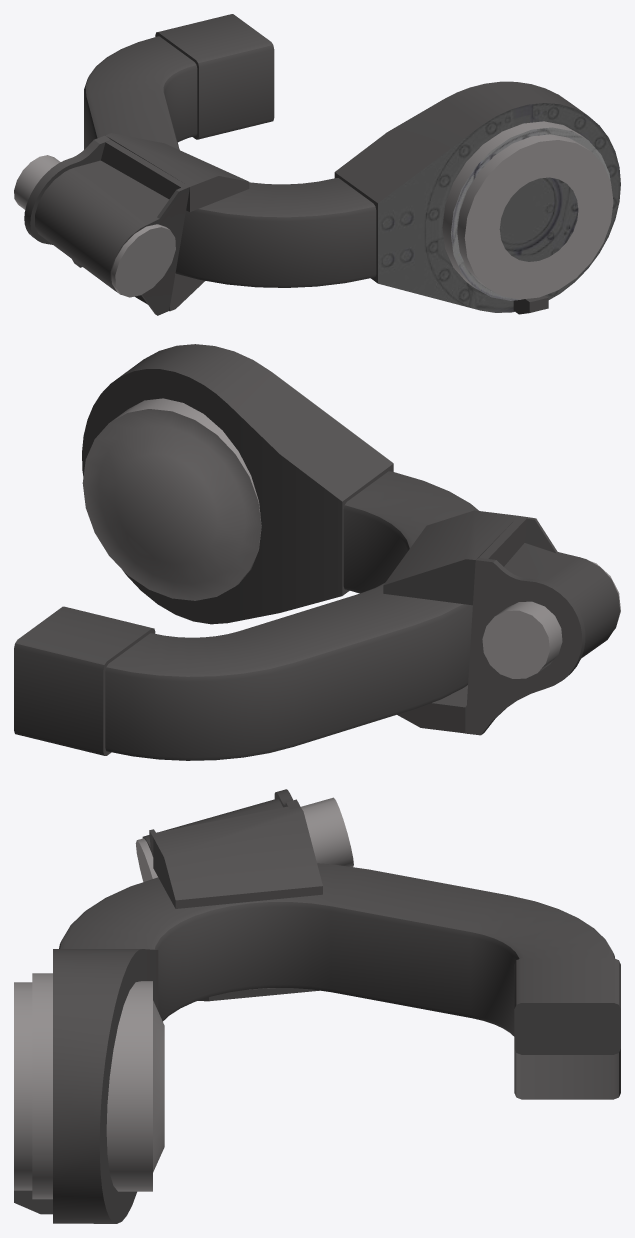
File: Perseverance_front_wheel_mount.glb
The picture shows the model from 3 angles, top to bottom: view 1: azimuth 30°, elevation 25°; view 2: azimuth 150°, elevation 25°; view 3: azimuth 270°, elevation 25°; orthographic projection. The views are drawn at different scales.
Visible parts, largest first — view 1: susp.front_wheel_mount; view 2: susp.front_wheel_mount; view 3: susp.front_wheel_mount.
Boxes of the visible parts, bbox=[...] form: susp.front_wheel_mount: bbox=[14, 14, 620, 315]; susp.front_wheel_mount: bbox=[14, 344, 620, 760]; susp.front_wheel_mount: bbox=[14, 789, 620, 1223].
Bounding box in the file's own units: 0.5324 × 0.2085 × 0.461.
3 materials, 1 textured.
